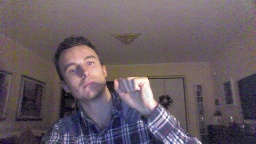Pugno: (111, 74, 158, 112)
